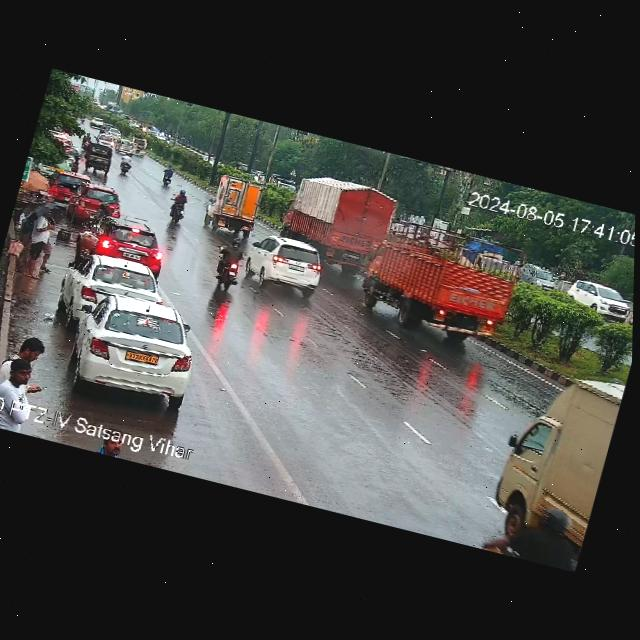car: (62, 286, 207, 408), (60, 246, 165, 324), (241, 231, 333, 305), (84, 211, 172, 272), (62, 176, 142, 228), (565, 275, 634, 326), (46, 170, 86, 202), (516, 261, 559, 290), (264, 172, 300, 194), (85, 142, 115, 168), (126, 136, 149, 157), (113, 138, 138, 156), (98, 122, 123, 140), (96, 131, 115, 148), (88, 115, 105, 130)
motorcycle: (209, 235, 248, 290), (166, 187, 194, 225), (158, 164, 175, 188), (116, 149, 132, 174), (81, 130, 94, 152)
person: (2, 332, 51, 391), (21, 206, 54, 282), (98, 429, 136, 461), (44, 179, 57, 195), (71, 155, 82, 171)
truck: (477, 346, 627, 561), (352, 226, 525, 353), (272, 166, 403, 283), (197, 168, 265, 242), (459, 235, 520, 278)
